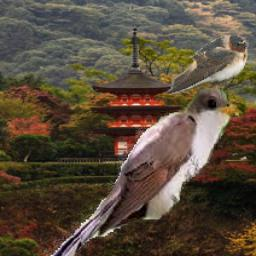Cuckoo: (42, 88, 246, 256)
Swallow: (164, 34, 249, 94)
